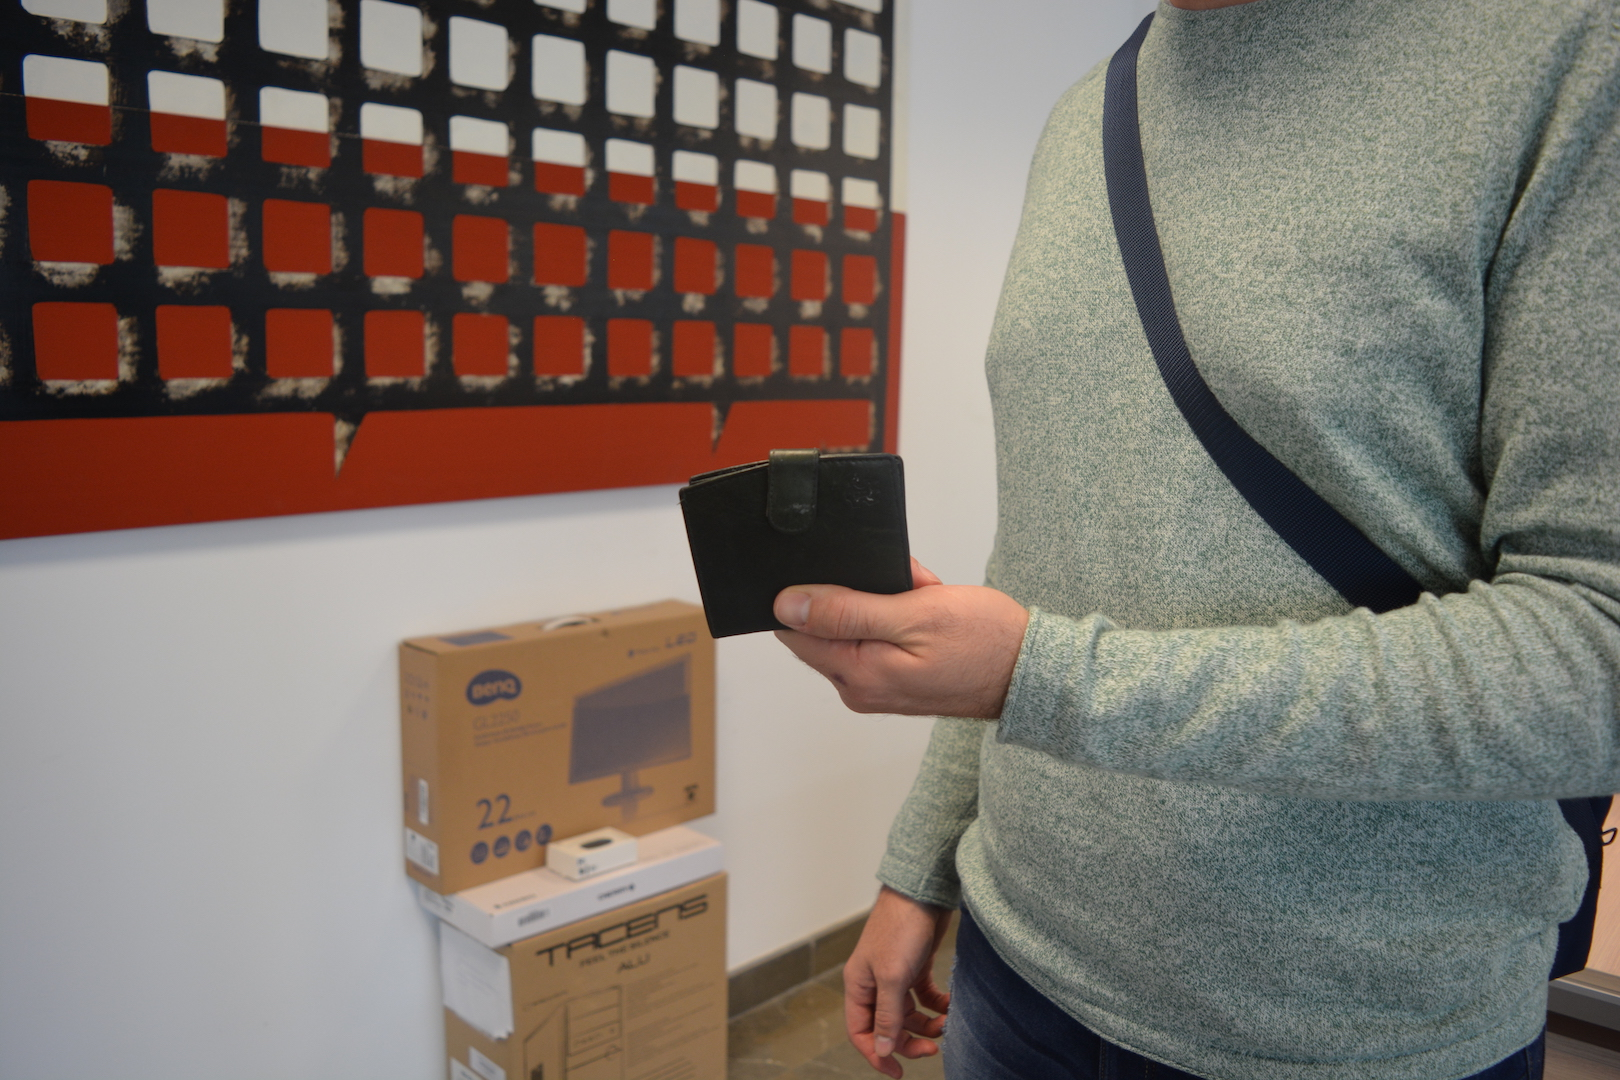monedero: (681, 446, 914, 640)
